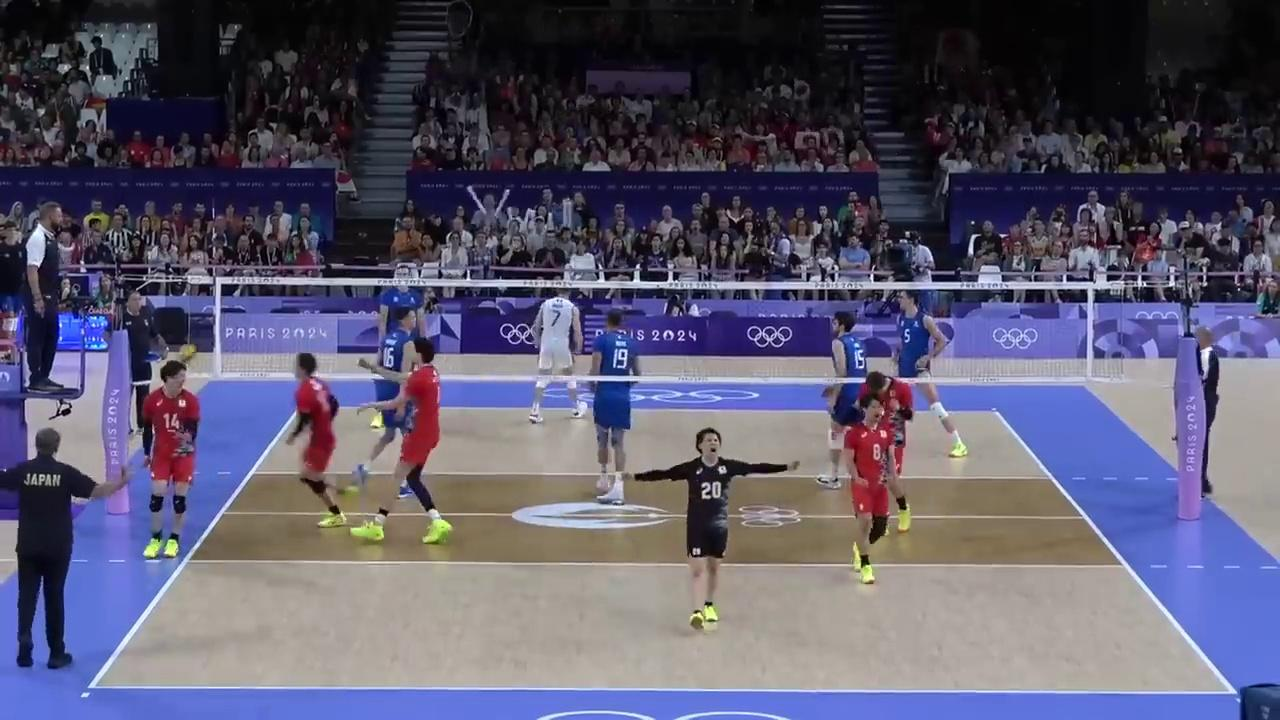ball: (177, 343, 197, 363)
